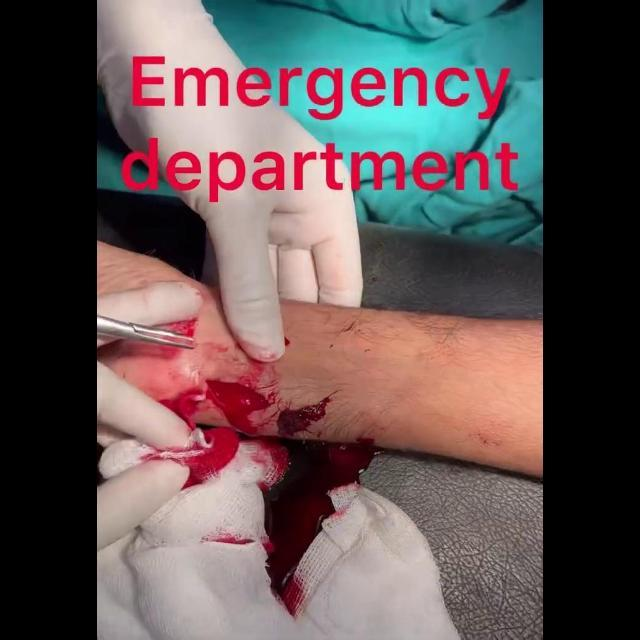blood: (148, 339, 376, 620), (170, 318, 198, 339)
